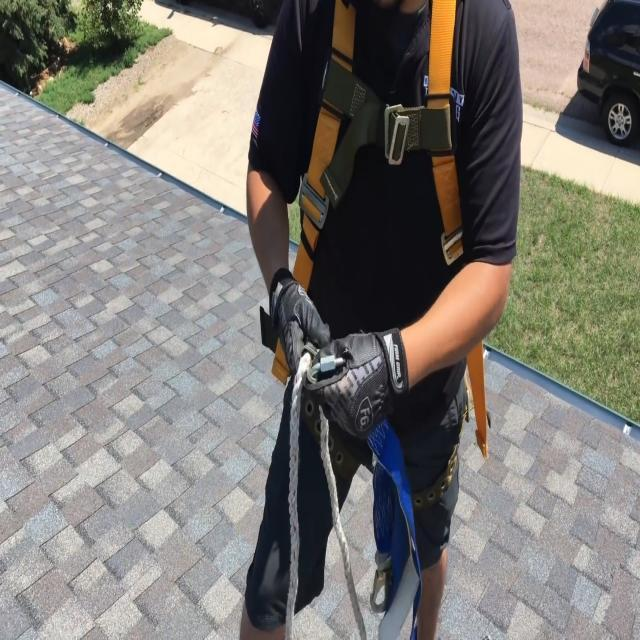belt: (262, 0, 498, 521)
